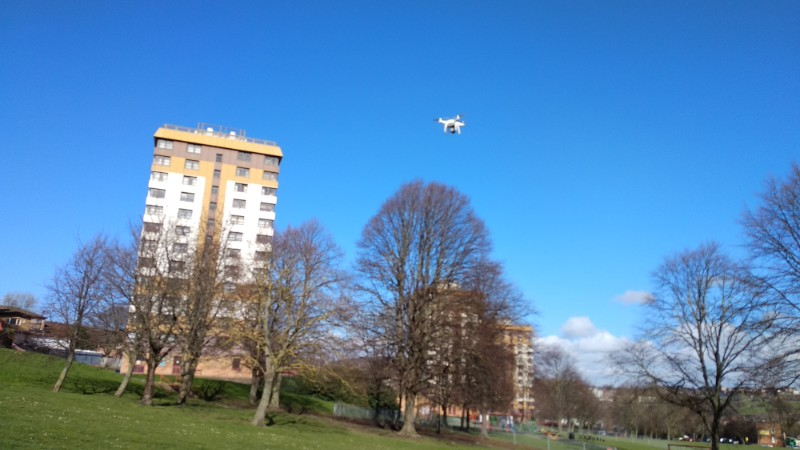drone: (433, 112, 469, 136)
